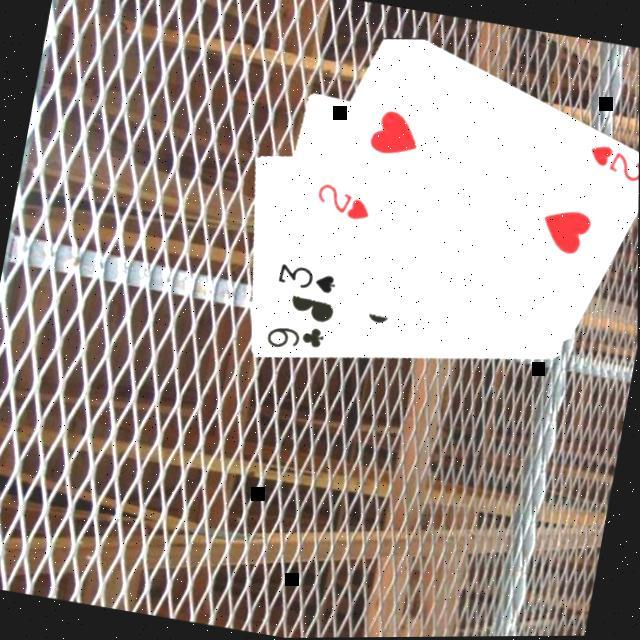2H: (309, 178, 375, 226), (580, 140, 639, 188)
3S: (271, 260, 339, 299)
9C: (260, 317, 328, 359)
